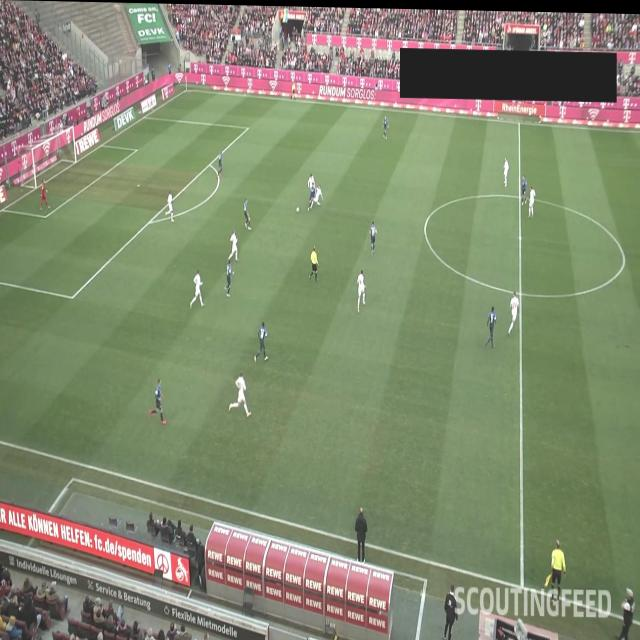goalkeeper: (39, 178, 49, 210)
player: (228, 370, 252, 416), (148, 377, 166, 423), (253, 319, 269, 362), (190, 268, 206, 309), (507, 288, 519, 334), (485, 303, 497, 346), (356, 267, 366, 312), (228, 228, 240, 261), (310, 182, 324, 207), (226, 258, 234, 296), (370, 219, 378, 254), (307, 170, 315, 204), (244, 195, 252, 229), (167, 189, 175, 221), (528, 183, 536, 215), (308, 180, 316, 209), (522, 171, 528, 203), (503, 154, 509, 186), (217, 148, 223, 179), (382, 114, 388, 138)
referee: (544, 536, 566, 599), (309, 244, 319, 280), (290, 77, 296, 99)
